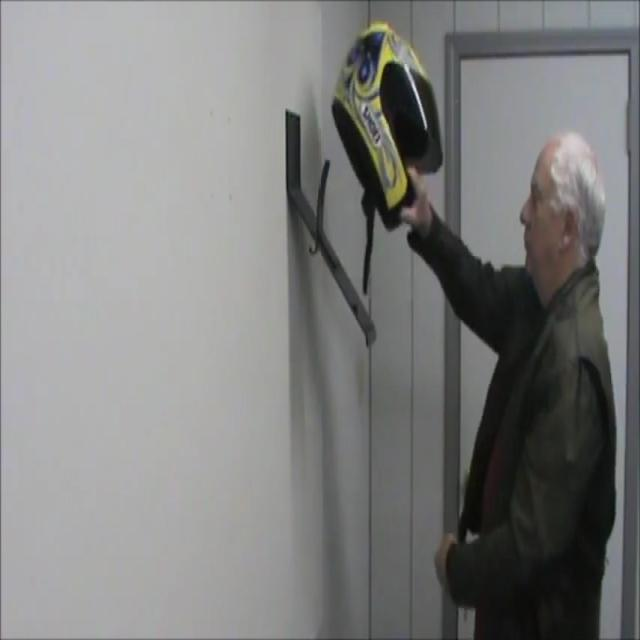Jacket_Wearer: (433, 275, 608, 624)
Person: (429, 144, 612, 640)
